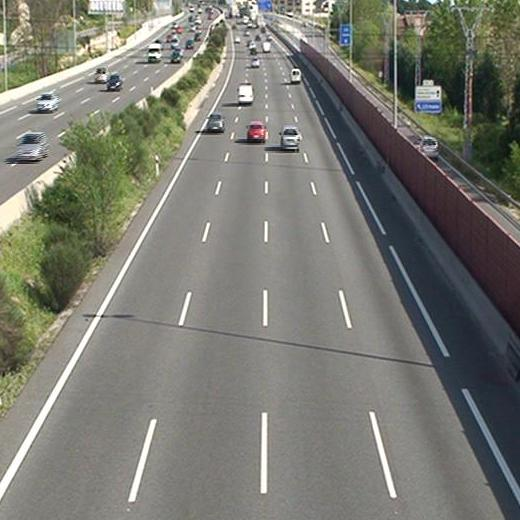car: (280, 128, 300, 150), (247, 122, 266, 141), (207, 114, 224, 132), (250, 57, 259, 66), (248, 47, 257, 54)
van: (237, 85, 253, 106), (290, 69, 301, 83), (263, 41, 271, 52)
